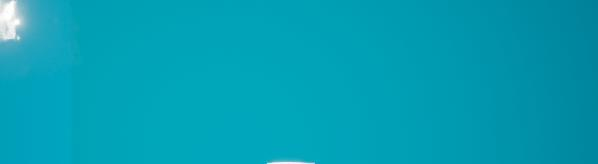land_base: (0, 0, 38, 50)
